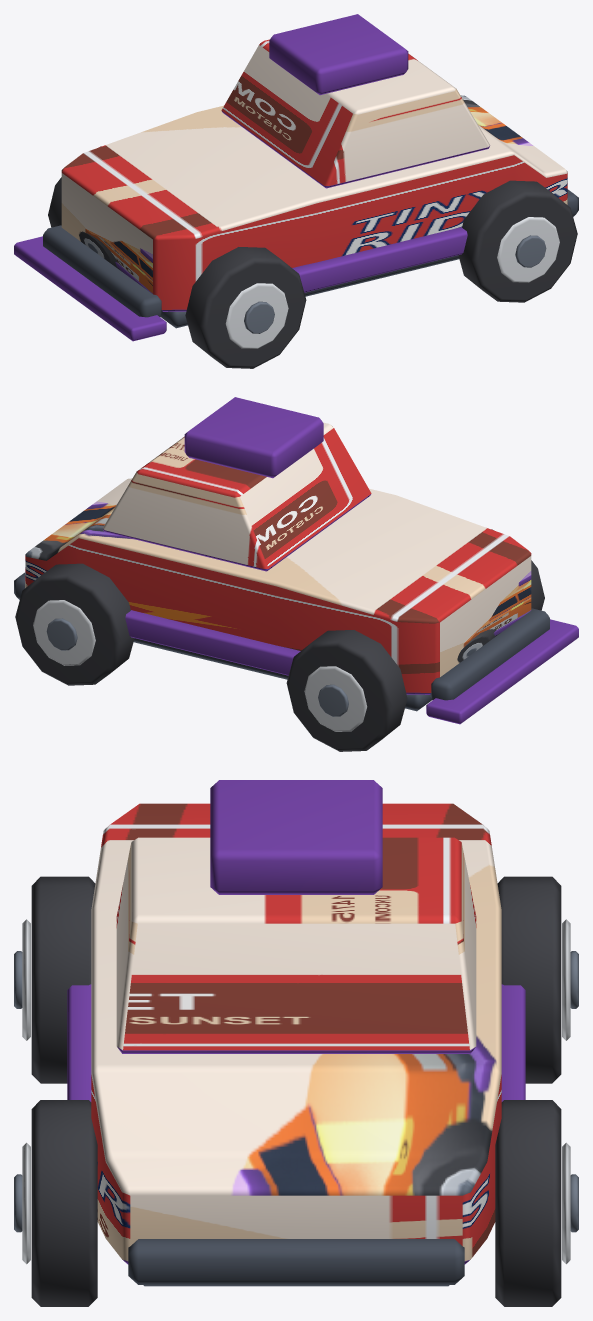
3 views of the same model, one above another, from view 1: azimuth 30°, elevation 25°; view 2: azimuth 150°, elevation 25°; view 3: azimuth 270°, elevation 25° (orthographic). The views are drawn at different scales.
Visible parts, largest first — view 1: RR-05_connected_shell, RR-05_cabin, Tire, Tire.002, custom equipment, custom side guard, custom chin, front bumper, Rim.002, Rim, underbody, Hub.002 (+2 smaller); view 2: RR-05_connected_shell, RR-05_cabin, Tire.001, Tire.003, custom equipment, custom side guard.001, custom chin, front bumper, Rim.003, Rim.001, underbody, Hub.003 (+2 smaller); view 3: RR-05_connected_shell, RR-05_cabin, custom equipment, rear bumper, Tire.002, Tire.003, Tire, Tire.001, custom side guard, custom side guard.001, Rim.002, Rim.003 (+2 smaller).
Boxes of the visible parts, bbox=[...] form: RR-05_connected_shell: bbox=[61, 95, 567, 311]; RR-05_cabin: bbox=[221, 39, 490, 188]; Tire: bbox=[185, 247, 306, 368]; Tire.002: bbox=[458, 180, 577, 302]; custom equipment: bbox=[269, 14, 408, 95]; custom side guard: bbox=[292, 227, 467, 292]; custom chin: bbox=[14, 236, 166, 341]; front bumper: bbox=[43, 225, 162, 317]; Rim.002: bbox=[497, 217, 559, 282]; Rim: bbox=[225, 283, 288, 348]; underbody: bbox=[160, 255, 459, 328]; Hub.002: bbox=[515, 235, 546, 267]; RR-05_connected_shell: bbox=[25, 478, 531, 694]; RR-05_cabin: bbox=[102, 422, 371, 571]; Tire.001: bbox=[286, 630, 407, 751]; Tire.003: bbox=[15, 563, 134, 685]; custom equipment: bbox=[184, 397, 323, 478]; custom side guard.001: bbox=[125, 610, 300, 675]; custom chin: bbox=[426, 619, 578, 724]; front bumper: bbox=[430, 608, 549, 700]; Rim.003: bbox=[33, 600, 95, 665]; Rim.001: bbox=[304, 666, 367, 731]; underbody: bbox=[133, 638, 432, 711]; Hub.003: bbox=[46, 618, 77, 650]; RR-05_connected_shell: bbox=[91, 803, 501, 1264]; RR-05_cabin: bbox=[116, 837, 476, 1053]; custom equipment: bbox=[210, 780, 382, 894]; rear bumper: bbox=[128, 1239, 464, 1284]; Tire.002: bbox=[31, 1100, 97, 1306]; Tire.003: bbox=[495, 1100, 561, 1306]; Tire: bbox=[31, 876, 95, 1083]; Tire.001: bbox=[497, 876, 561, 1083]; custom side guard: bbox=[67, 984, 91, 1101]; custom side guard.001: bbox=[501, 984, 525, 1101]; Rim.002: bbox=[22, 1142, 30, 1264]; Rim.003: bbox=[562, 1142, 570, 1264].
Size of the model in its own units: 353 by 171 by 223.
